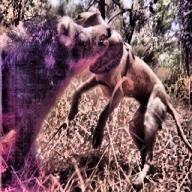boar: (0, 9, 112, 190)
